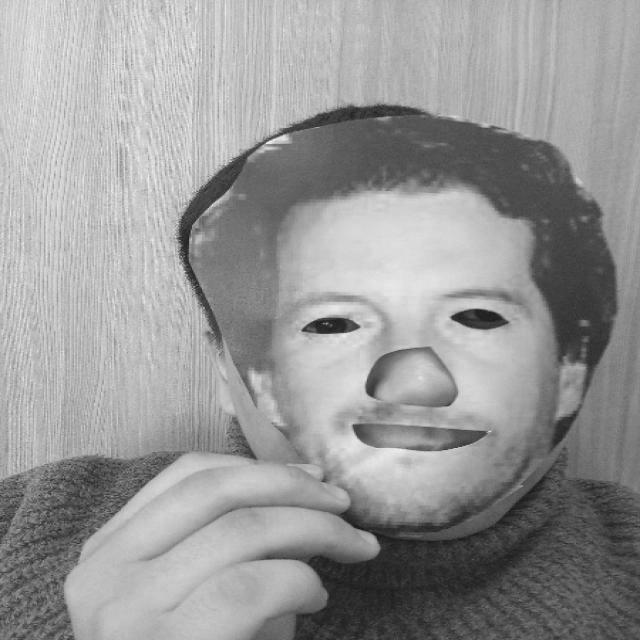real: (184, 115, 622, 539)
